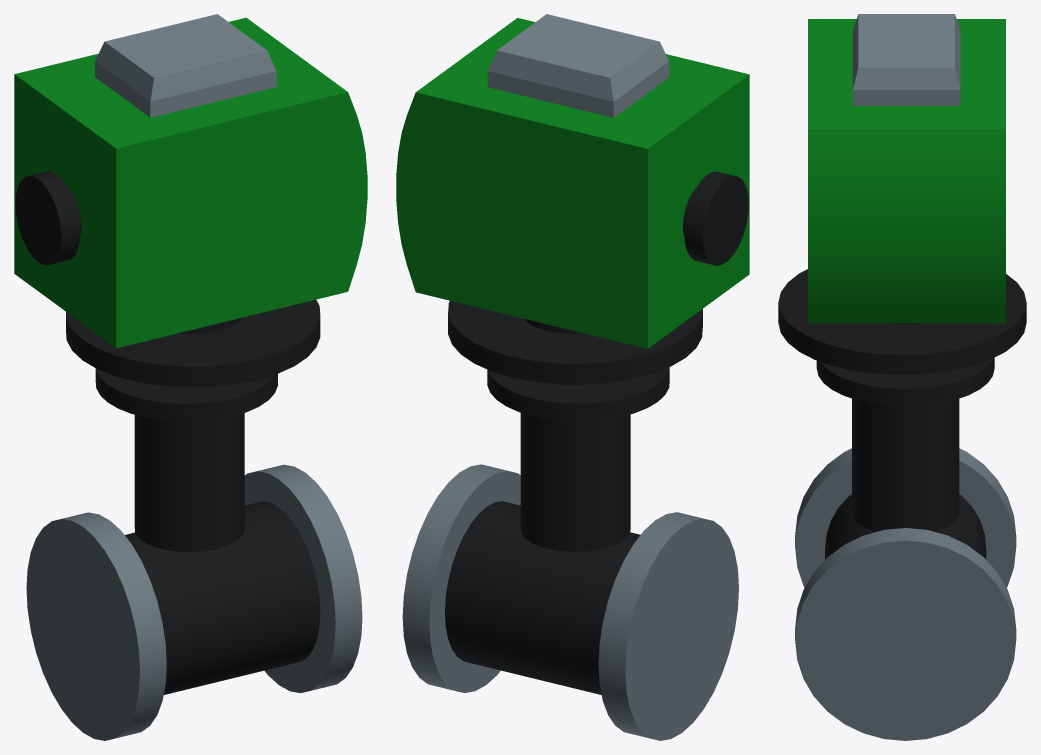
The picture shows the model from 3 angles, left to right: view 1: azimuth 30°, elevation 25°; view 2: azimuth 150°, elevation 25°; view 3: azimuth 270°, elevation 25°; orthographic projection. The views are drawn at different scales.
Parts seen in each view (by area): view 1: 立方体.238, 柱体.055, 柱体.054, 柱体.057, 立方体.129, 柱体.053, 柱体.056; view 2: 立方体.238, 柱体.055, 柱体.054, 柱体.057, 立方体.129, 柱体.053, 柱体.056; view 3: 立方体.238, 柱体.053, 柱体.057, 柱体.055, 立方体.129, 柱体.054.
Boxes of the visible parts, left/top/right/bottom form: 立方体.238: left=14, top=17, right=367, bottom=348; 柱体.055: left=125, top=413, right=320, bottom=694; 柱体.054: left=26, top=512, right=166, bottom=740; 柱体.057: left=66, top=299, right=320, bottom=421; 立方体.129: left=95, top=14, right=276, bottom=117; 柱体.053: left=244, top=464, right=362, bottom=693; 柱体.056: left=15, top=171, right=79, bottom=265; 立方体.238: left=396, top=18, right=749, bottom=348; 柱体.055: left=445, top=412, right=640, bottom=694; 柱体.054: left=598, top=512, right=738, bottom=740; 柱体.057: left=448, top=300, right=702, bottom=421; 立方体.129: left=487, top=14, right=669, bottom=117; 柱体.053: left=402, top=464, right=520, bottom=692; 柱体.056: left=684, top=171, right=748, bottom=265; 立方体.238: left=808, top=19, right=1005, bottom=323; 柱体.053: left=795, top=528, right=1016, bottom=740; 柱体.057: left=778, top=269, right=1026, bottom=406; 柱体.055: left=825, top=398, right=986, bottom=559; 立方体.129: left=852, top=14, right=960, bottom=105; 柱体.054: left=795, top=448, right=1016, bottom=587.
Size of the model in its own units: 8.31 by 18.88 by 6.6.
